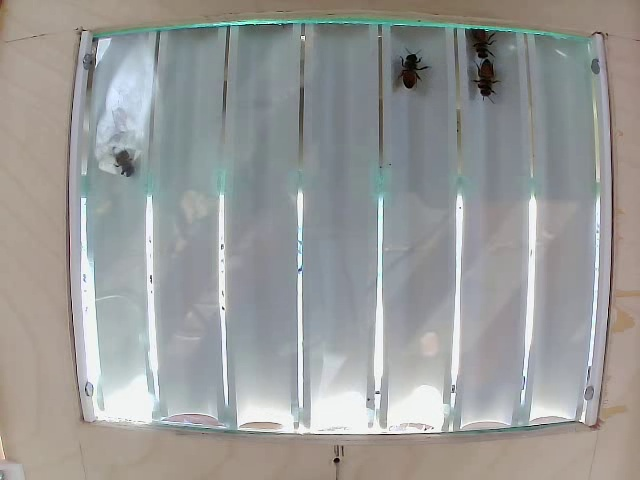bee: (111, 143, 157, 188), (470, 55, 504, 106), (467, 22, 502, 67), (395, 46, 423, 98)
